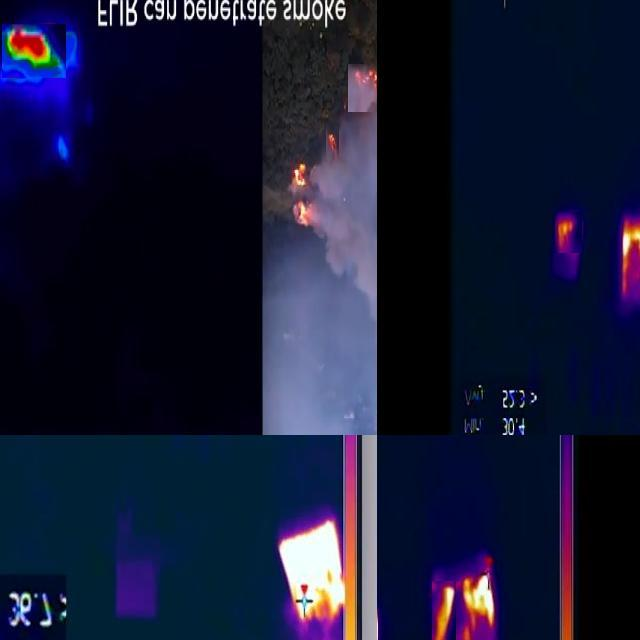fire: (279, 520, 347, 630), (4, 25, 68, 79), (462, 572, 499, 638), (621, 216, 640, 302), (433, 582, 457, 640), (556, 213, 583, 254)
